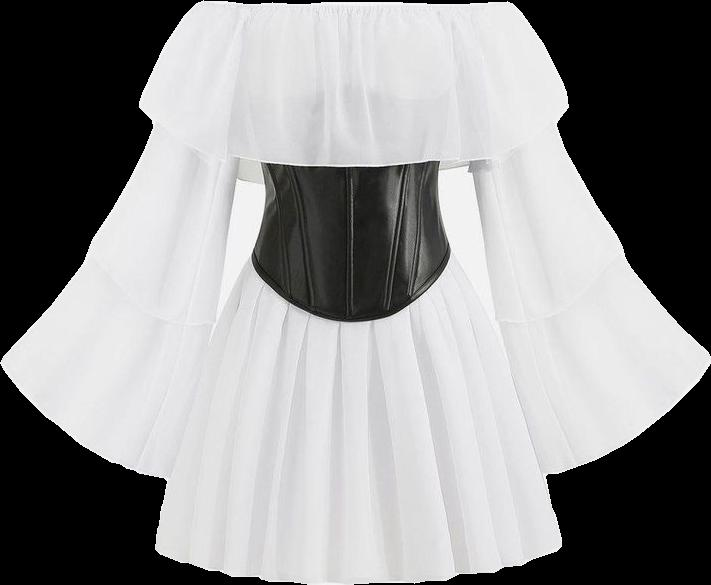Bodice: (139, 1, 568, 321)
Hemline: (153, 542, 561, 584)
Neckline: (194, 0, 512, 9)
Skirt: (156, 248, 561, 584)
Sleeve: (1, 121, 239, 480), (469, 124, 710, 476)
Sleeveline: (468, 121, 559, 165), (152, 120, 240, 158)
Waistline: (136, 101, 569, 168), (249, 246, 456, 323)
